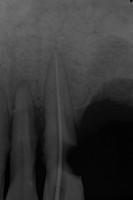Furcation Involvement: (15, 79, 31, 90)
